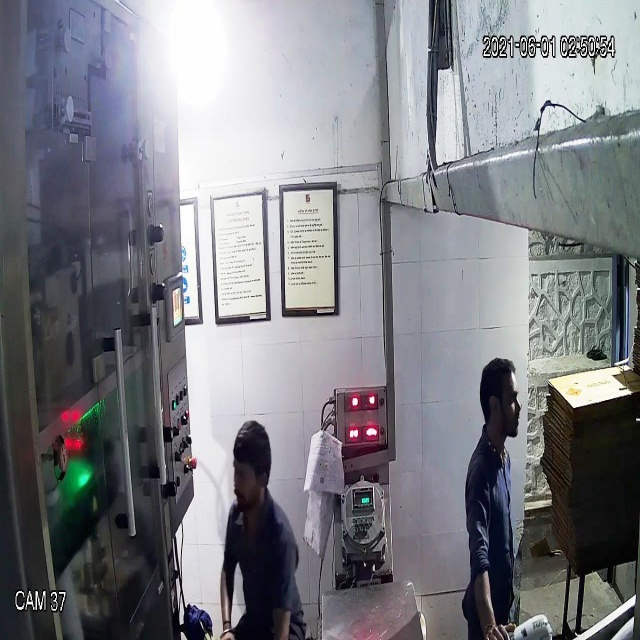Sin_gafas: (480, 382, 523, 420), (226, 460, 267, 495)
